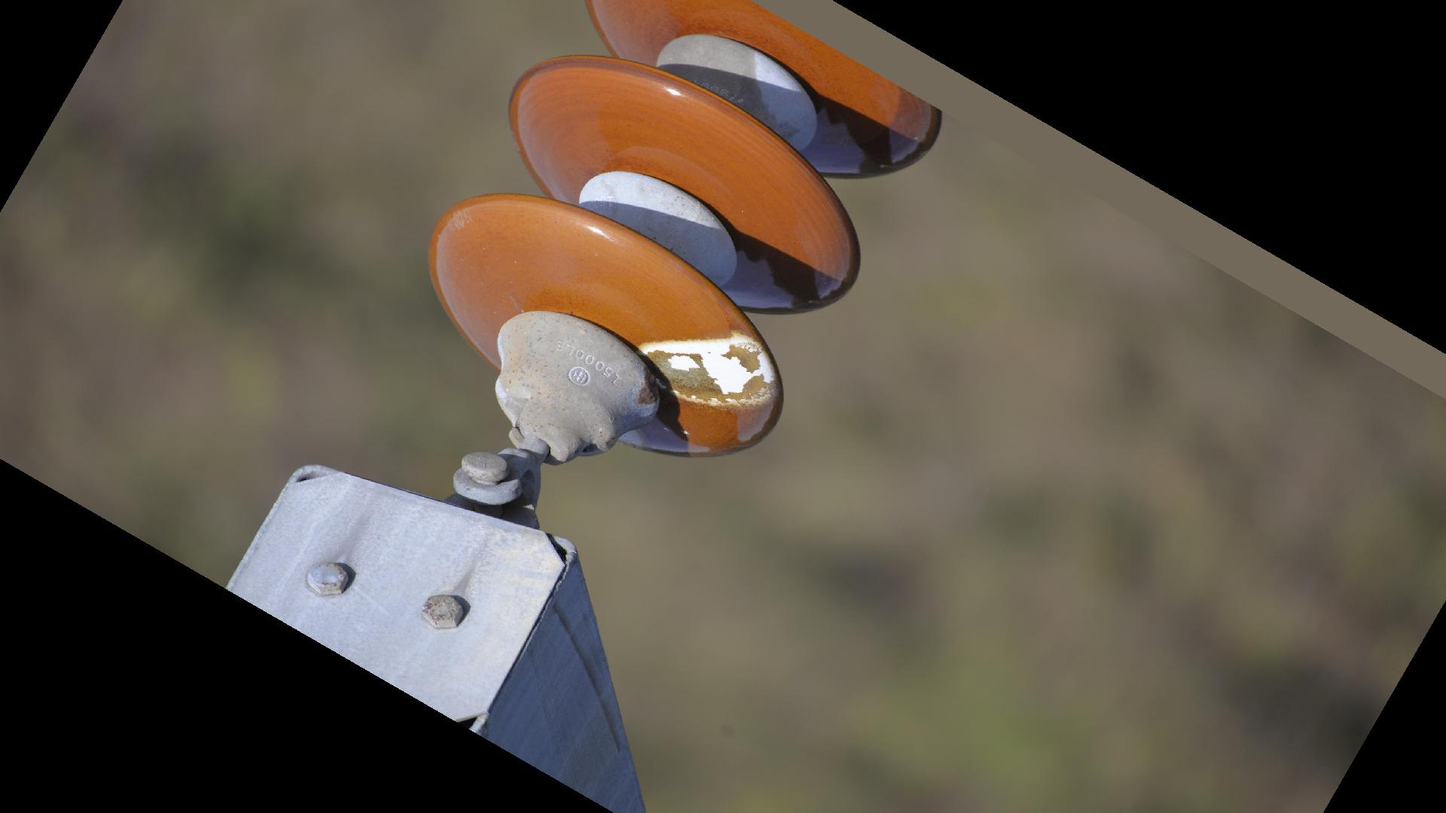insulator: (416, 1, 948, 470)
insulator_flashover: (636, 330, 785, 411)
